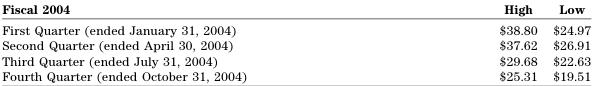table: (1, 1, 590, 83)
table column: (1, 1, 372, 83), (372, 1, 544, 83), (544, 1, 590, 83)
table column header: (1, 1, 590, 19)
table row: (1, 1, 590, 19), (1, 19, 590, 37), (1, 52, 590, 68), (1, 37, 590, 52), (1, 68, 590, 83)
